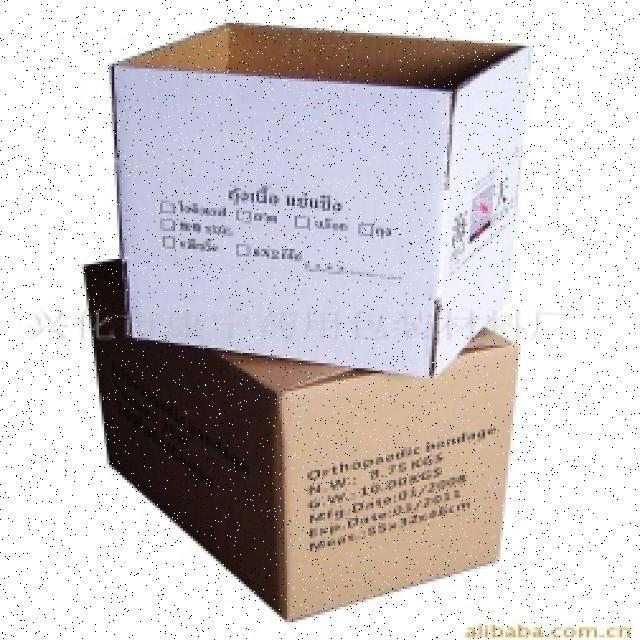box: (71, 238, 552, 621), (97, 2, 546, 354)
